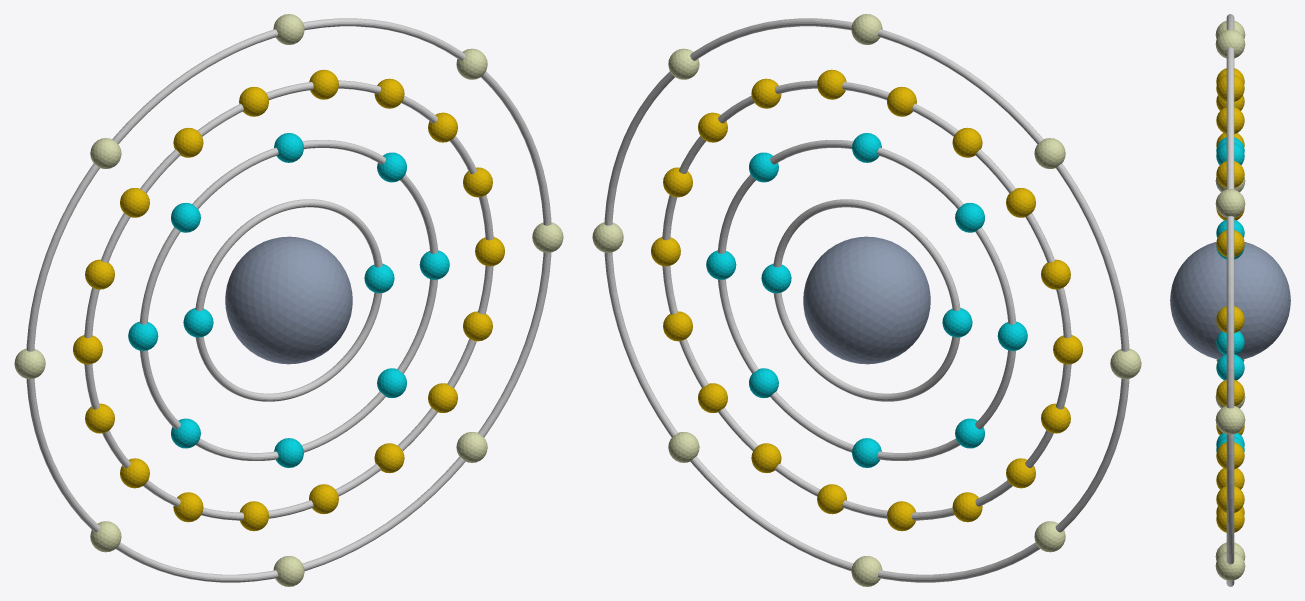
3 renders of one model, left to right at view 1: azimuth 30°, elevation 25°; view 2: azimuth 150°, elevation 25°; view 3: azimuth 270°, elevation 25°, orthographic. The views are drawn at different scales.
Visible parts, largest first — view 1: Nucleo_Kr, Camada_4, Camada_3, Camada_2, Camada_1, e4_4, e4_8, e4_5, e4_1, e4_3, e4_7, e4_2 (+21 smaller); view 2: Nucleo_Kr, Camada_4, Camada_3, Camada_2, Camada_1, e4_4, e4_8, e4_5, e4_1, e4_3, e4_7, e4_2 (+21 smaller); view 3: Nucleo_Kr, Camada_4, e4_2, e4_1, e4_3, e4_8, e3_2, e3_4, e3_5, e3_6, e3_3, e3_17 (+11 smaller).
Part boxes in pixels (left/top/right/bottom): Nucleo_Kr: left=225, top=236, right=352, bottom=364; Camada_4: left=26, top=18, right=551, bottom=582; Camada_3: left=84, top=80, right=493, bottom=520; Camada_2: left=139, top=140, right=438, bottom=460; Camada_1: left=195, top=199, right=382, bottom=401; e4_4: left=90, top=138, right=121, bottom=168; e4_8: left=456, top=432, right=487, bottom=462; e4_5: left=14, top=348, right=45, bottom=379; e4_1: left=532, top=222, right=563, bottom=252; e4_3: left=273, top=14, right=304, bottom=44; e4_7: left=273, top=556, right=304, bottom=586; e4_2: left=456, top=48, right=487, bottom=79; Nucleo_Kr: left=803, top=236, right=930, bottom=364; Camada_4: left=604, top=18, right=1129, bottom=582; Camada_3: left=662, top=80, right=1071, bottom=520; Camada_2: left=717, top=140, right=1016, bottom=460; Camada_1: left=773, top=199, right=960, bottom=401; e4_4: left=1034, top=138, right=1065, bottom=168; e4_8: left=668, top=432, right=699, bottom=462; e4_5: left=1110, top=348, right=1141, bottom=379; e4_1: left=592, top=222, right=623, bottom=252; e4_3: left=851, top=14, right=882, bottom=44; e4_7: left=851, top=556, right=882, bottom=586; e4_2: left=668, top=48, right=699, bottom=79; Nucleo_Kr: left=1170, top=242, right=1290, bottom=359; Camada_4: left=1226, top=14, right=1234, bottom=586; e4_2: left=1215, top=189, right=1245, bottom=217; e4_1: left=1215, top=406, right=1245, bottom=434; e4_3: left=1215, top=29, right=1245, bottom=58; e4_8: left=1215, top=552, right=1245, bottom=580; e3_2: left=1216, top=306, right=1244, bottom=332; e3_4: left=1216, top=161, right=1244, bottom=187; e3_5: left=1216, top=107, right=1244, bottom=133; e3_6: left=1216, top=75, right=1244, bottom=101; e3_3: left=1216, top=230, right=1244, bottom=257; e3_17: left=1216, top=486, right=1244, bottom=512.
Size of the model in its own units: 2.17 by 2.17 by 0.44.
